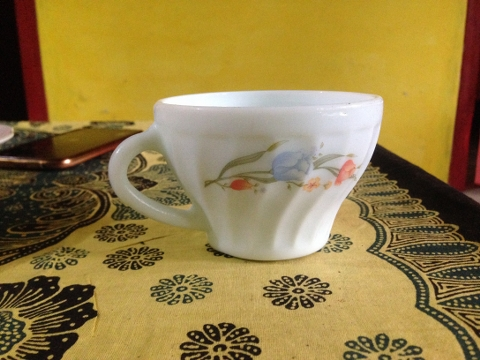tempat minum: (108, 90, 383, 260)
